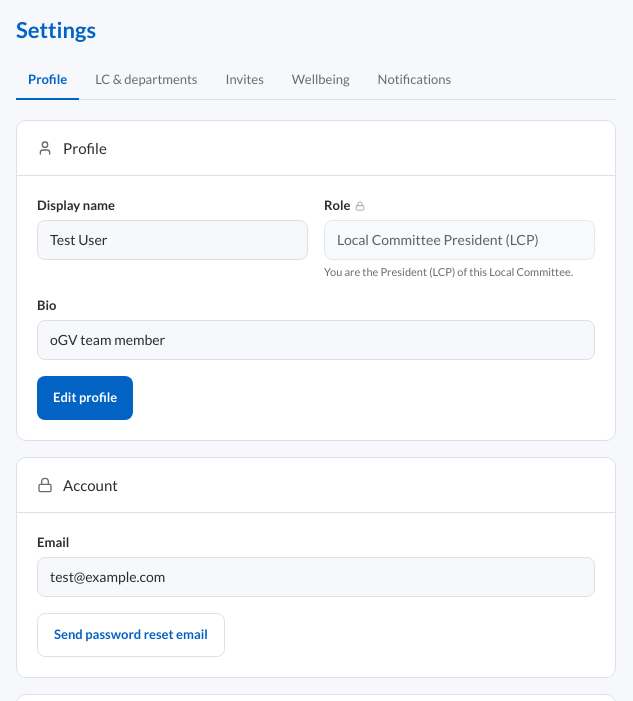
Test case: Settings page: Issue #15 › shows notifications section
The image size is (633, 701).
Check: the heading "Settings" is shown, box [16, 16, 96, 43]
Step 1. Click the tab "Notifications" → (414, 81), box [366, 62, 463, 100]
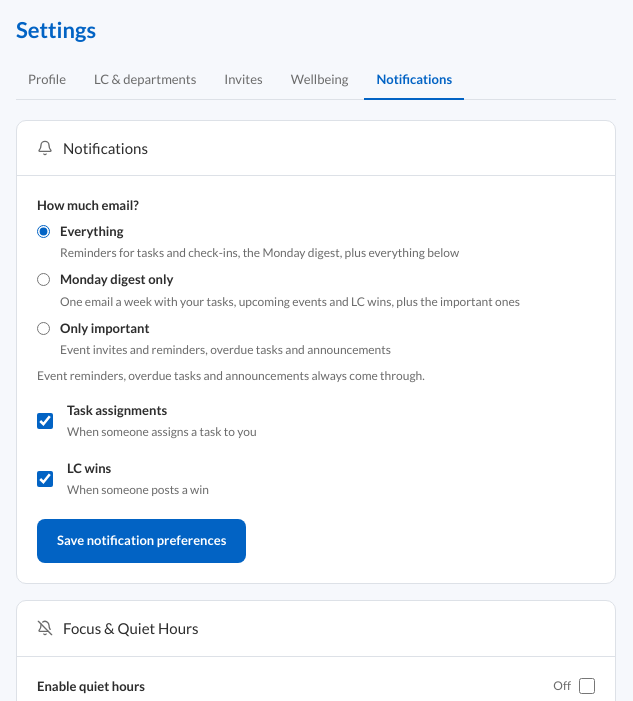
Check: the heading "Notifications" is shown, box [63, 136, 148, 159]
